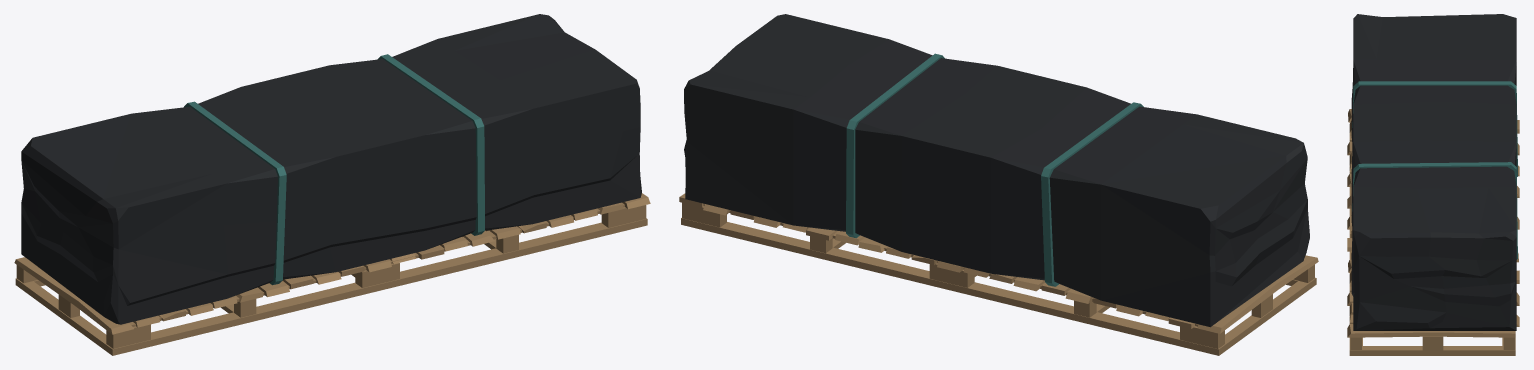
Rendered from SM_Prop_Pallet_03.fbx.
3 views of the same model, side by side, from view 1: azimuth 30°, elevation 25°; view 2: azimuth 150°, elevation 25°; view 3: azimuth 270°, elevation 25° (orthographic). The views are drawn at different scales.
Visible parts, largest first — view 1: SM_Prop_Pallet_03; view 2: SM_Prop_Pallet_03; view 3: SM_Prop_Pallet_03.
Part boxes in pixels (x1,y1,x2,y2): SM_Prop_Pallet_03: (14,14,650,355); SM_Prop_Pallet_03: (679,14,1318,355); SM_Prop_Pallet_03: (1347,14,1519,355).
Bounding box in the file's own units: 488 × 124 × 158.
